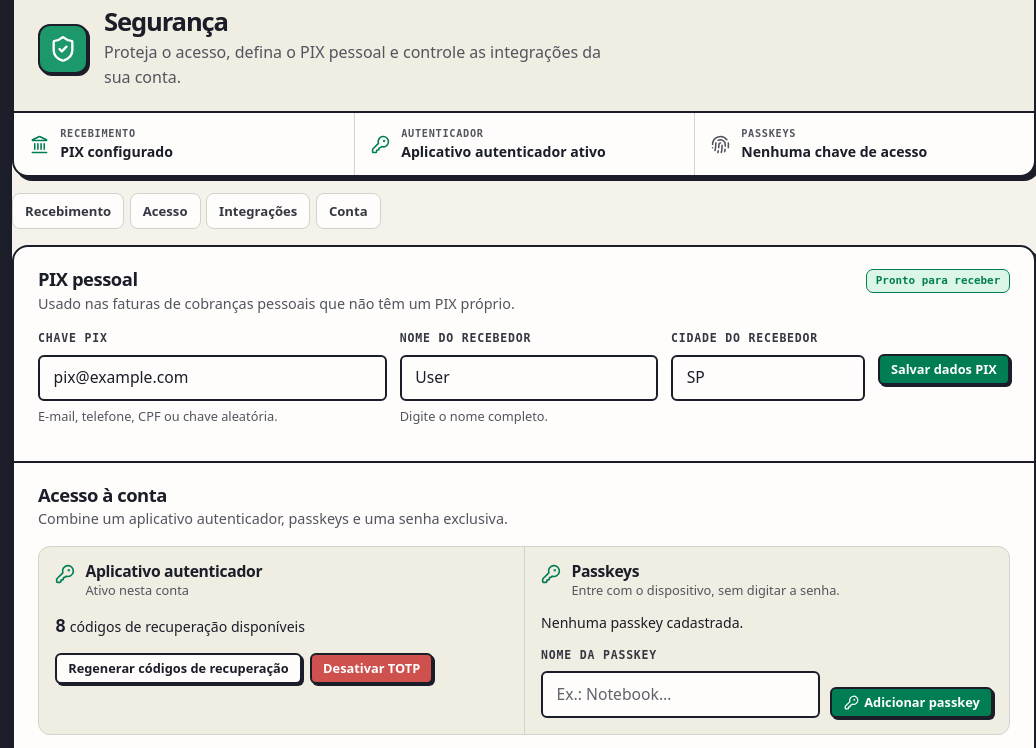
routes regenerated recovery codes to their one-time screen
Click the button "Regenerar códigos de recuperação". click: point(178, 668)
box: [55,653,302,684]
(page scrolled)
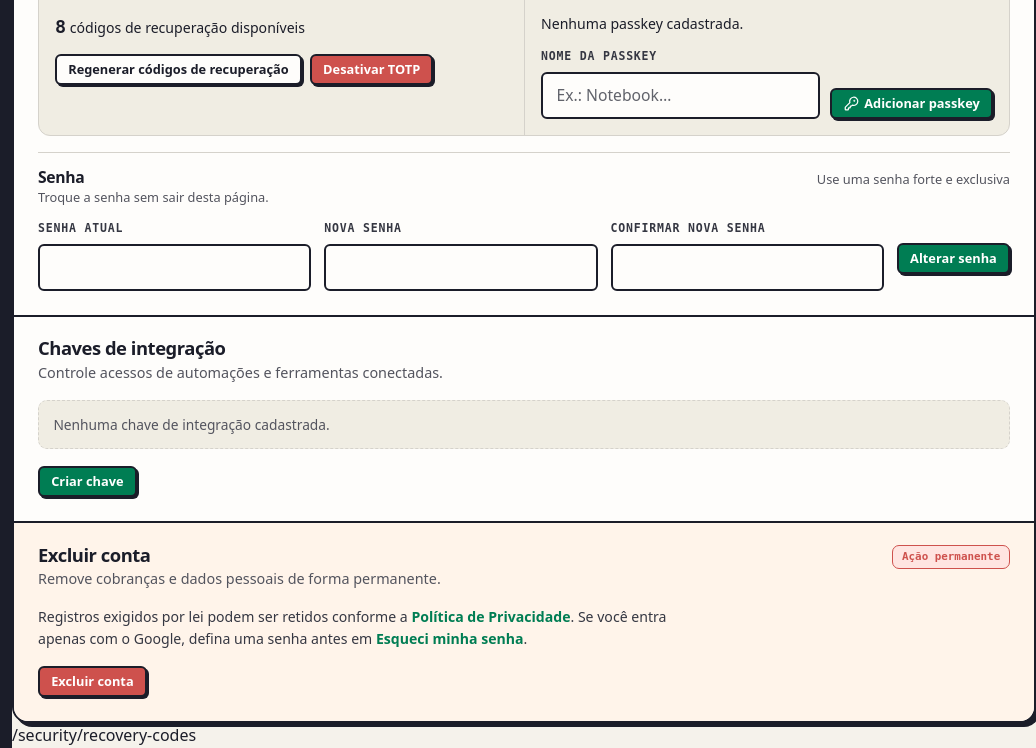
Check: the text with test id "location" reads "/security/recovery-codes", box [12,724,196,746]
